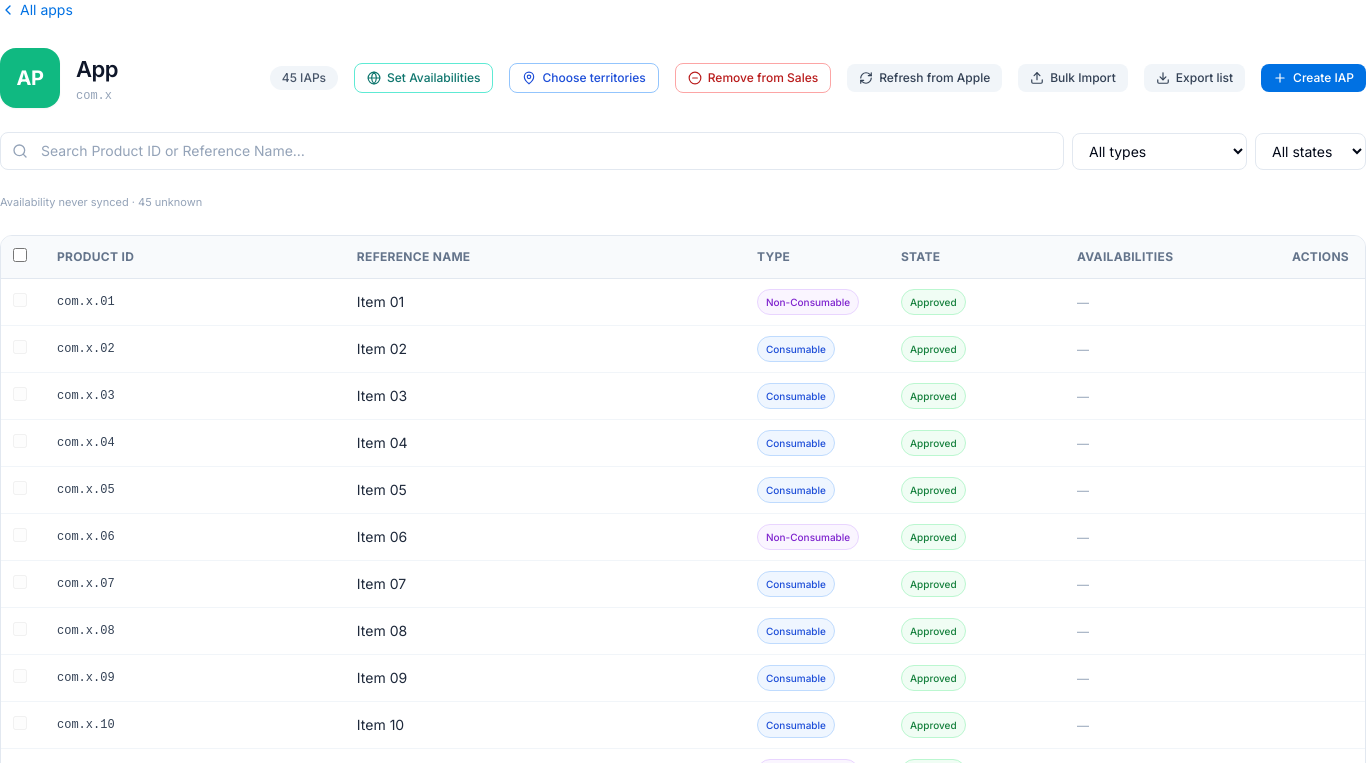
Test: ⚠ Y2.4 — a pick that scrolled off the screen is STILL IN THE EXPORT › the counter reports BOTH tiers, and says 0 on this page when they diverge
Step 1. Click the button "Export list" → (1194, 78), box [1144, 64, 1245, 92]
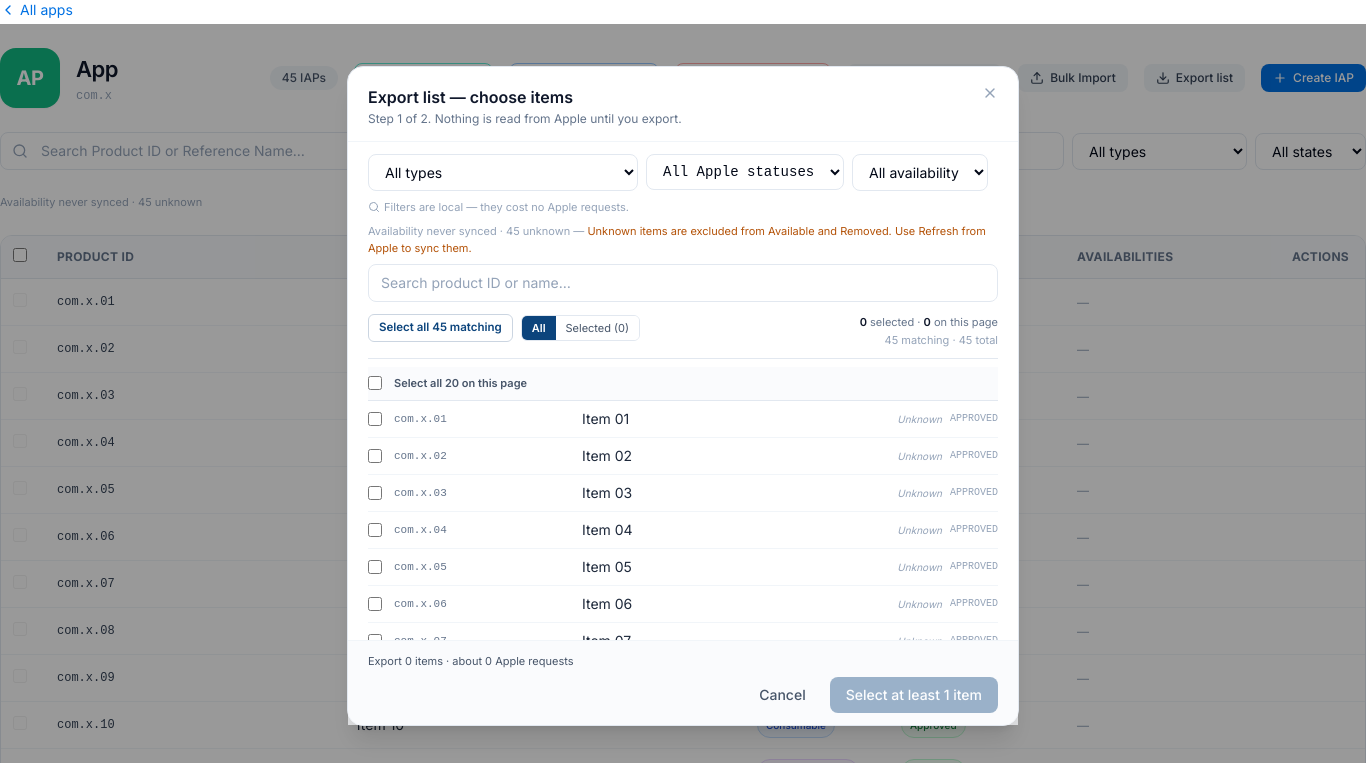
Step 2. Click the checkbox named "Select com.x.02" → (375, 456), box [368, 448, 382, 462]
(page scrolled)
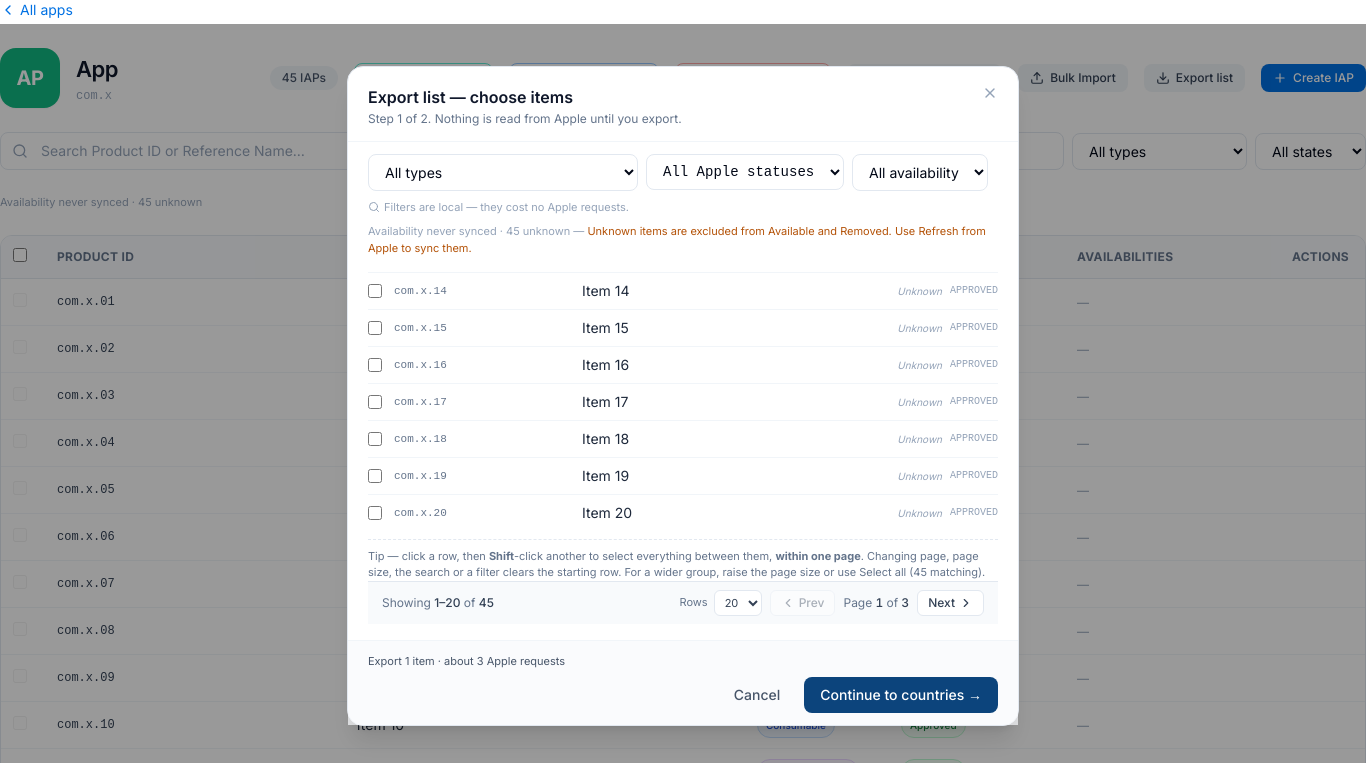
Step 3. Click the button with aria-label "Next page" → (951, 602), box [917, 590, 984, 616]
(page scrolled)
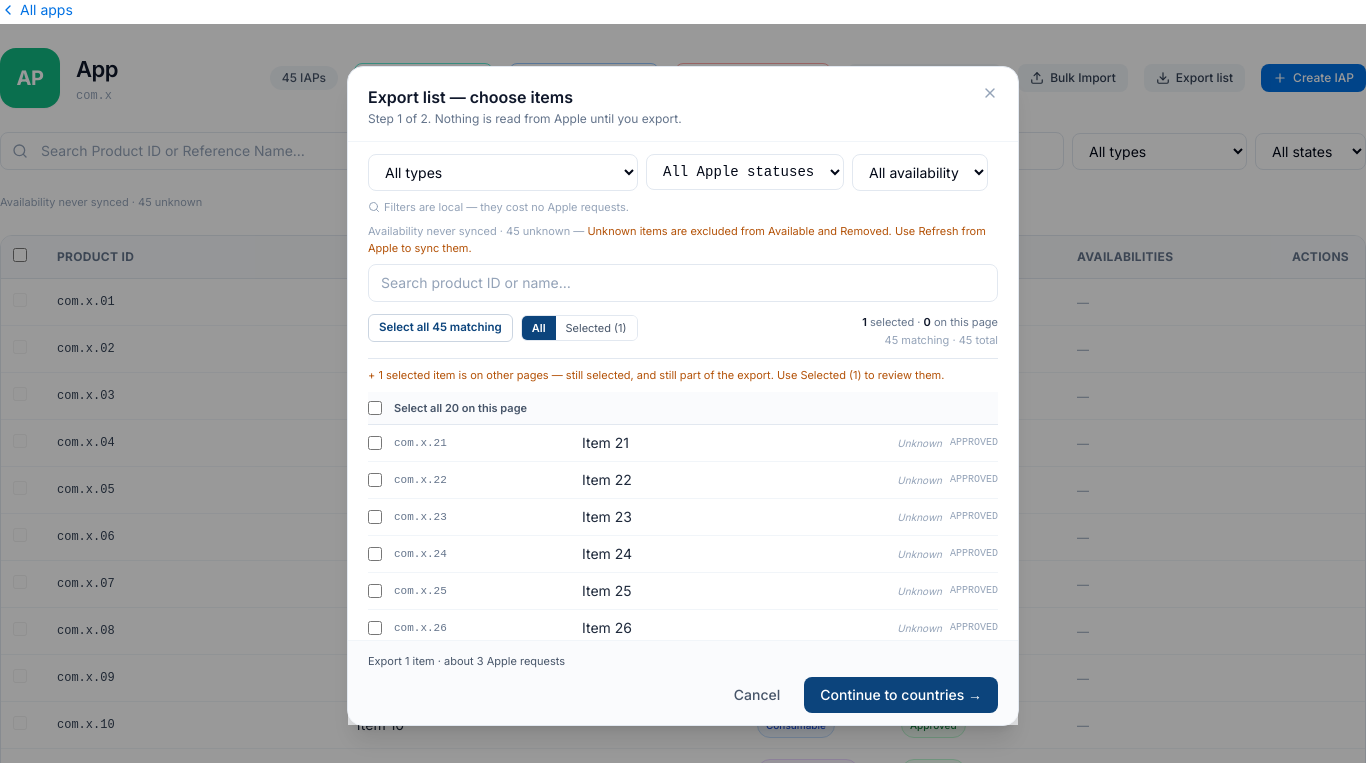
Result: the element with test id "selection-counts" shows "1 selected" at [862, 314, 998, 350]
Result: the element with test id "selection-counts" shows "0 on this page" at [862, 314, 998, 350]
